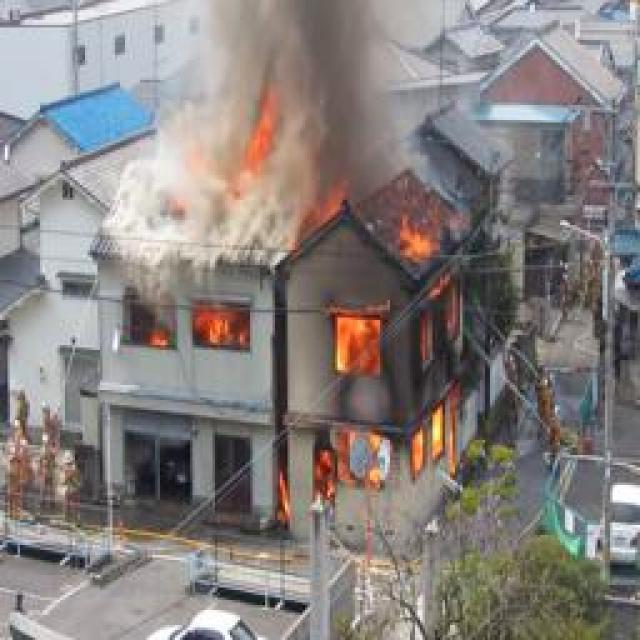Fire: (305, 191, 469, 494), (182, 92, 285, 180), (147, 303, 242, 347)
